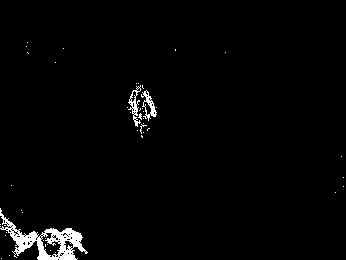person: (128, 84, 157, 133)
